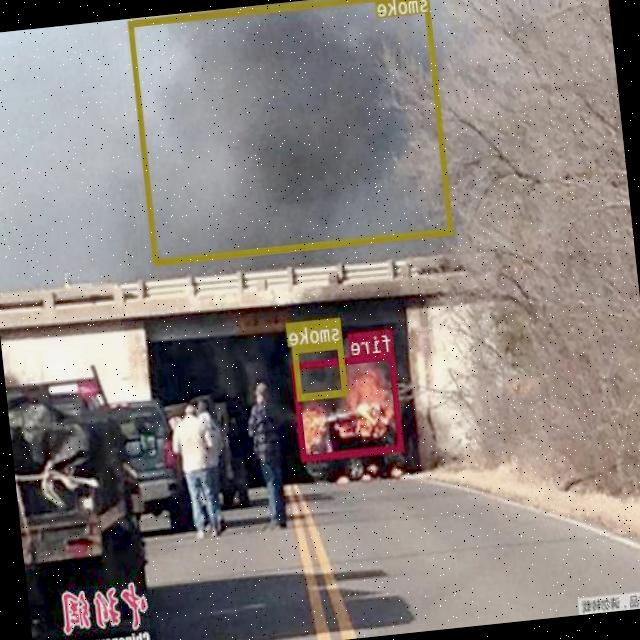fire: (292, 352, 405, 460)
smoke: (128, 0, 454, 263), (292, 341, 348, 398)
